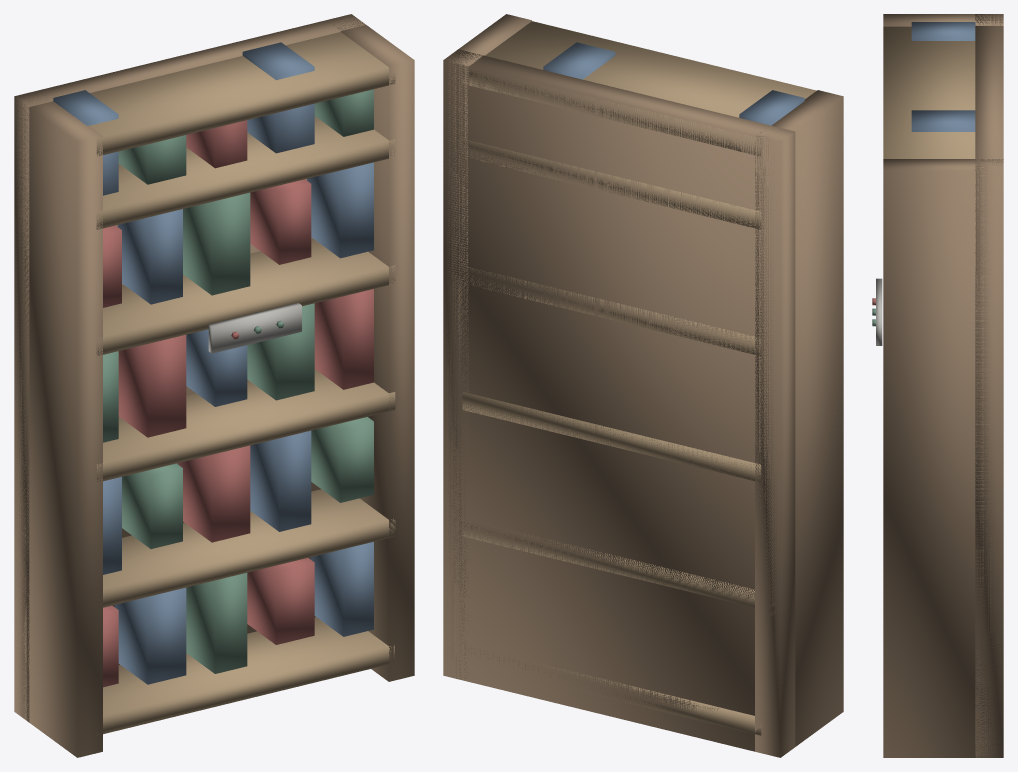
The model's file is library_stack_bay__reinforced.glb.
3 renders of one model, left to right at view 1: azimuth 30°, elevation 25°; view 2: azimuth 150°, elevation 25°; view 3: azimuth 270°, elevation 25°, orthographic. The views are drawn at different scales.
Visible parts, largest first — view 1: world; view 2: world; view 3: world.
Part boxes in pixels (bbox=[...]): world: bbox=[14, 14, 414, 757]; world: bbox=[443, 14, 843, 757]; world: bbox=[872, 14, 1003, 757].
Size of the model in its own units: 1.08 by 1.9 by 0.3821.
